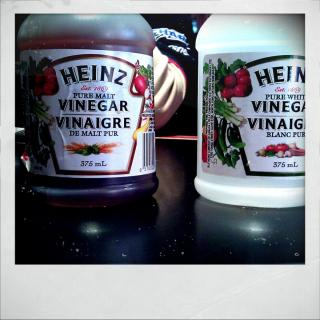tomato: (232, 81, 248, 97), (234, 69, 251, 83), (220, 85, 235, 100), (272, 140, 290, 152), (224, 74, 237, 86), (265, 143, 273, 152)
